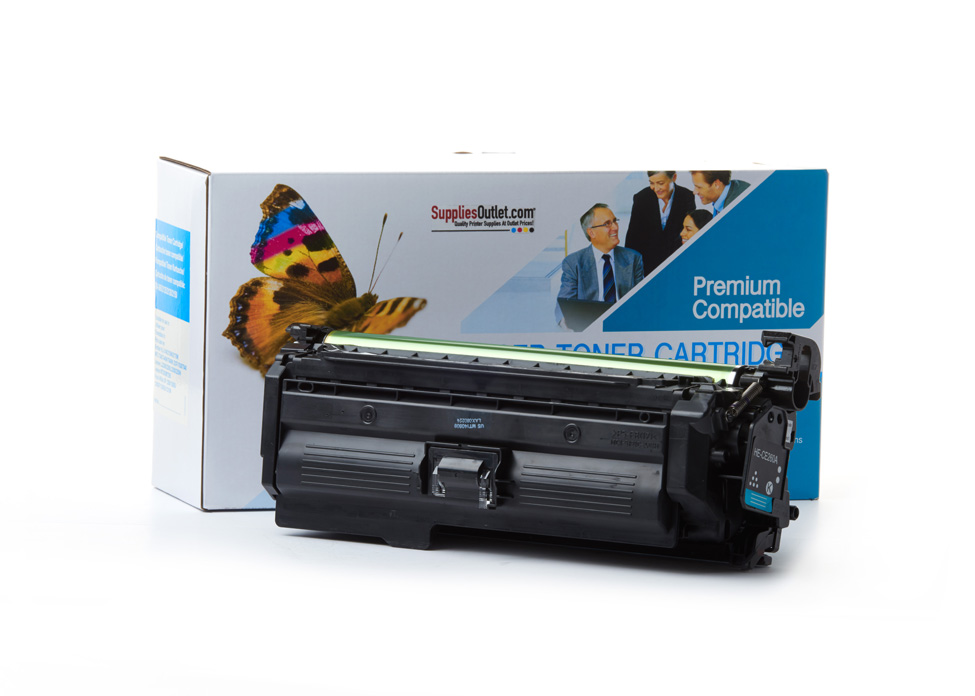Nonrec_Other: (257, 325, 793, 571)
Rec_Paper: (129, 118, 830, 510)
